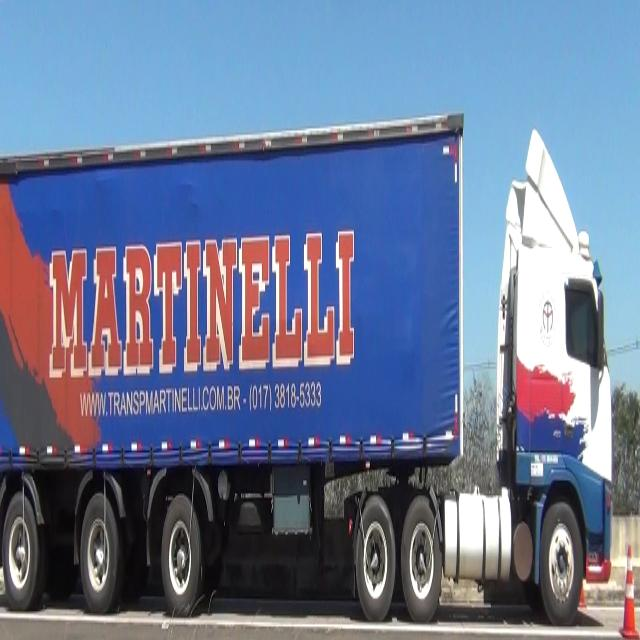-axle: (400, 495, 444, 620), (163, 492, 202, 622), (541, 503, 582, 618), (80, 494, 120, 609), (357, 494, 393, 620), (4, 492, 38, 610)
